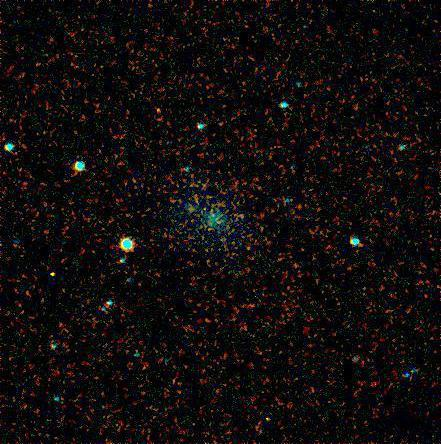star: (40, 257, 70, 287)
